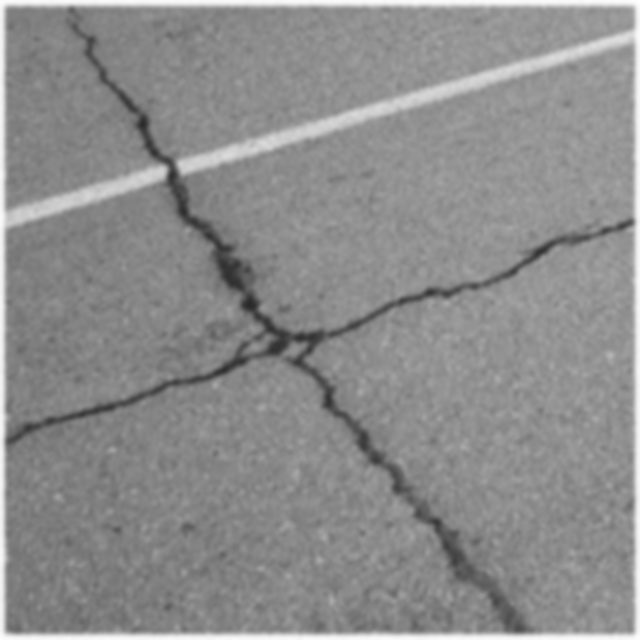SurfaceCrack: (6, 190, 629, 632)
